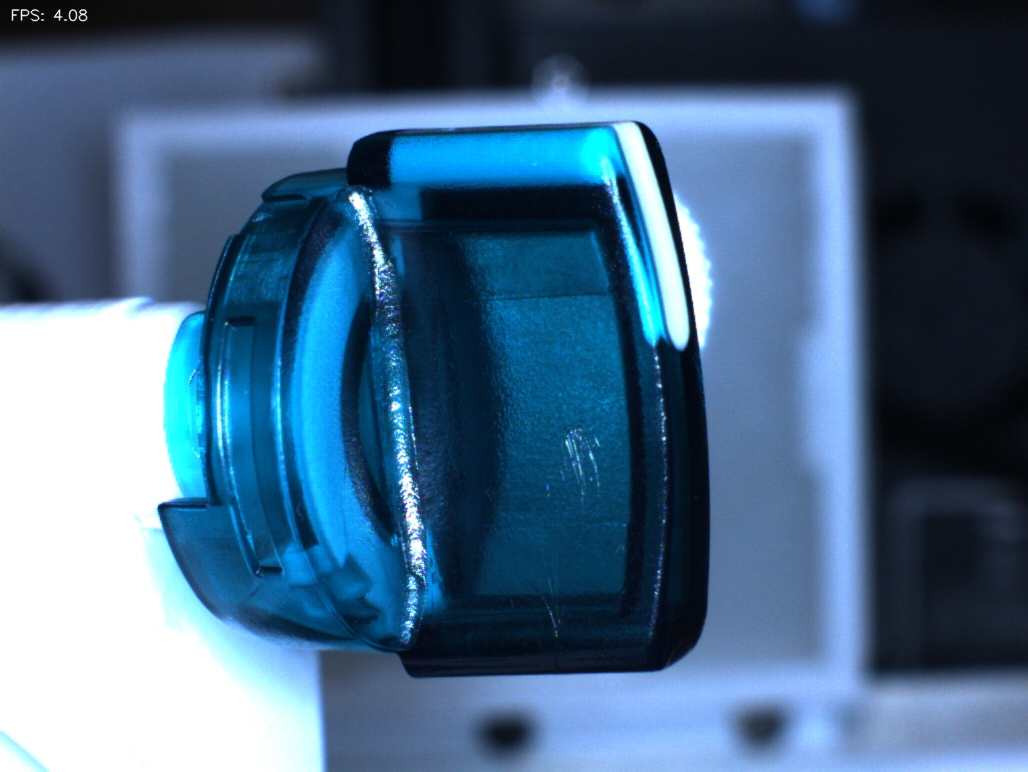Givrage: (533, 418, 610, 514)
